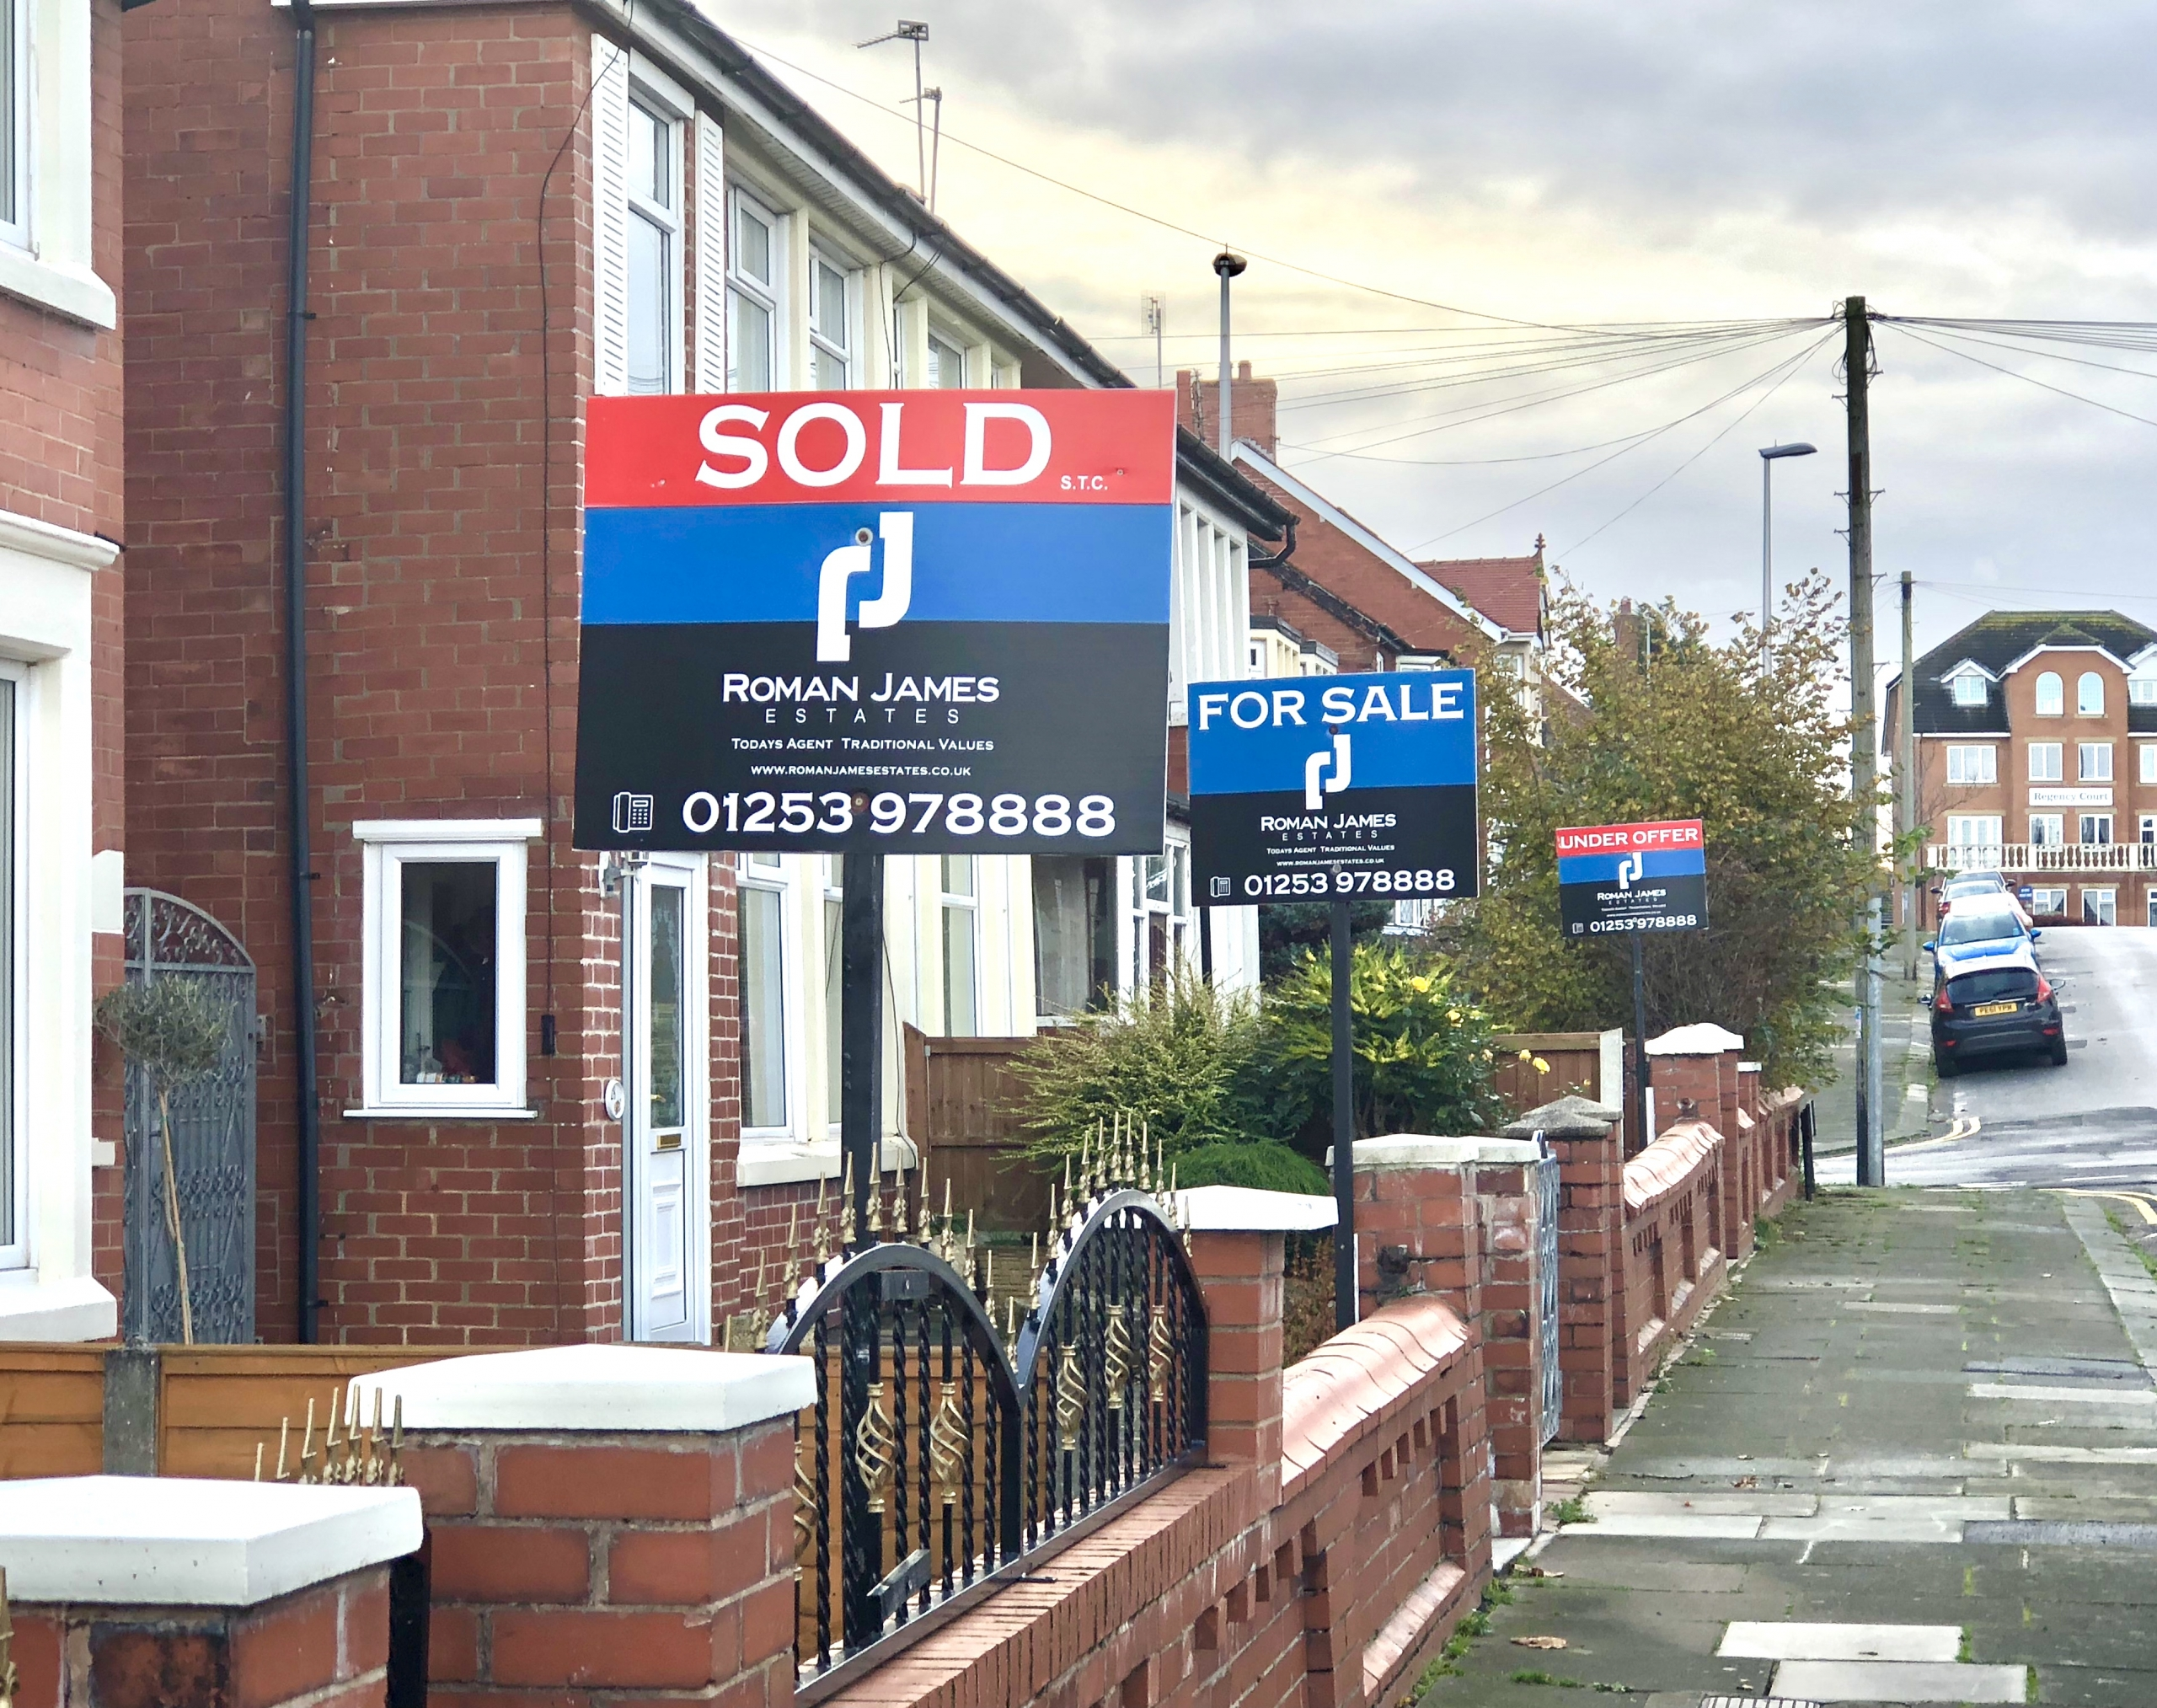property sign: (567, 368, 1192, 913), (1182, 655, 1507, 942), (1541, 808, 1740, 972)
